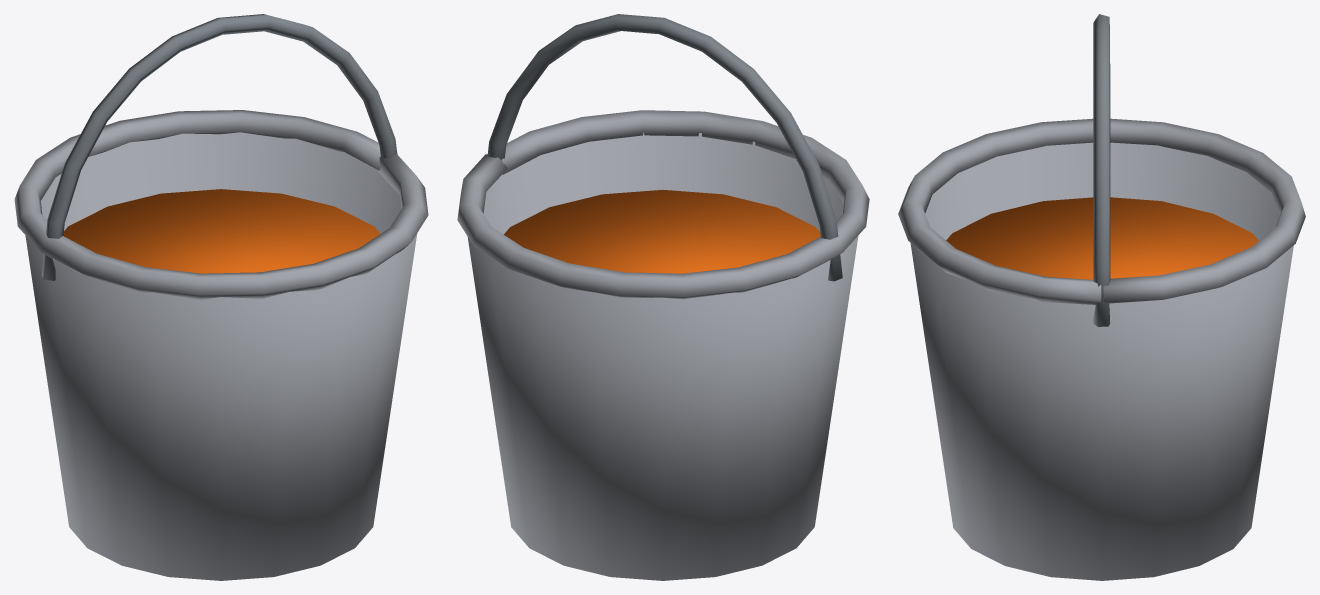
The model's file is lava_bucket.glb.
The picture shows the model from 3 angles, left to right: view 1: azimuth 30°, elevation 25°; view 2: azimuth 150°, elevation 25°; view 3: azimuth 270°, elevation 25°; orthographic projection.
Visible parts, largest first — view 1: lava_bucket_v0; view 2: lava_bucket_v0; view 3: lava_bucket_v0.
Boxes of the visible parts, box(x1,y1,x2,y2) form: lava_bucket_v0: box(14, 14, 428, 580); lava_bucket_v0: box(457, 14, 869, 580); lava_bucket_v0: box(898, 14, 1305, 580).
Size of the model in its own units: 0.2696 by 0.3556 by 0.2693.
